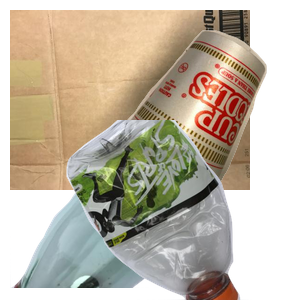cardboard: (10, 10, 250, 190)
glass: (10, 120, 224, 300)
plastic: (64, 120, 300, 300)
trash: (119, 28, 300, 207)
